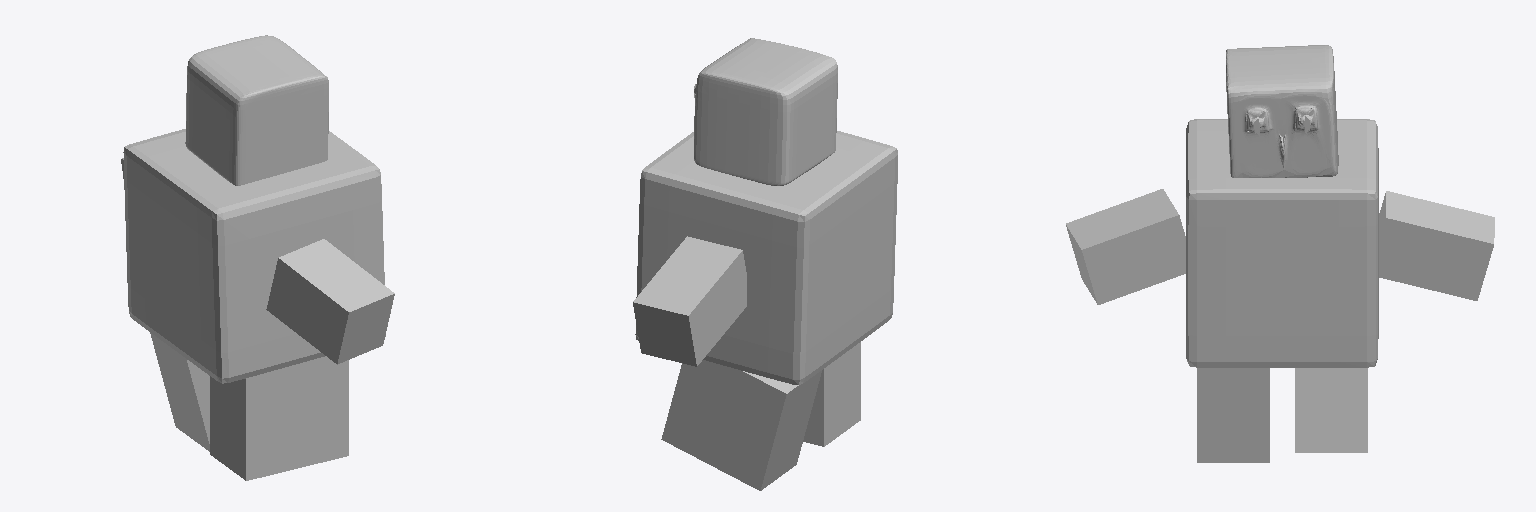
3 views of the same model, side by side, from view 1: azimuth 30°, elevation 25°; view 2: azimuth 150°, elevation 25°; view 3: azimuth 270°, elevation 25° (orthographic).
Parts seen in each view (by area): view 1: Cube_Cube.001, Cube.001_Cube.002, Cube.002_Cube.003, Cube.005_Cube.007, Cube.003_Cube.004; view 2: Cube_Cube.001, Cube.001_Cube.002, Cube.003_Cube.004, Cube.004_Cube.005, Cube.002_Cube.003; view 3: Cube_Cube.001, Cube.001_Cube.002, Cube.004_Cube.005, Cube.005_Cube.007, Cube.002_Cube.003, Cube.003_Cube.004.
Boxes of the visible parts, box(x1,y1,x2,y2) form: Cube_Cube.001: box(123, 129, 385, 383); Cube.001_Cube.002: box(185, 35, 328, 185); Cube.002_Cube.003: box(210, 356, 348, 480); Cube.005_Cube.007: box(266, 239, 394, 364); Cube.003_Cube.004: box(150, 332, 209, 451); Cube_Cube.001: box(635, 131, 897, 384); Cube.001_Cube.002: box(694, 38, 837, 185); Cube.003_Cube.004: box(661, 360, 821, 490); Cube.004_Cube.005: box(633, 236, 746, 366); Cube.002_Cube.003: box(803, 342, 860, 446); Cube_Cube.001: box(1186, 119, 1378, 367); Cube.001_Cube.002: box(1226, 45, 1338, 177); Cube.004_Cube.005: box(1379, 191, 1494, 300); Cube.005_Cube.007: box(1066, 189, 1185, 304); Cube.002_Cube.003: box(1197, 368, 1269, 462); Cube.003_Cube.004: box(1295, 368, 1367, 452).
Bounding box in the file's own units: 1.5 × 3.24 × 3.24.